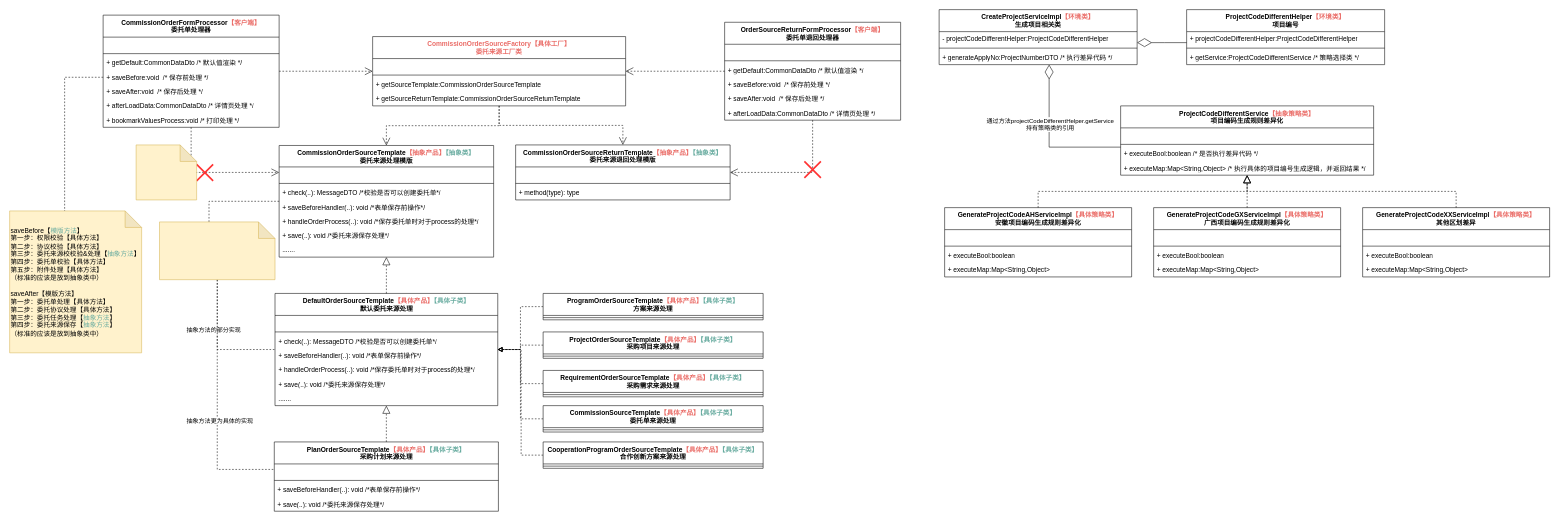
The diagram is 1559 pixels wide and 523 high, and some of its shapes have lost their labels. The shapes that lost their labels are listed below. From the top down, each one's centre as x and y in pixels, then its label:
[166,172]: 简单工厂 +配置文件解除耦合
[217,250]: 抽象方法声明 check委托来源校验 saveBeforeHandler 委托保存前处理 handleOrderProcess委托任务处理 save委托来源保存
